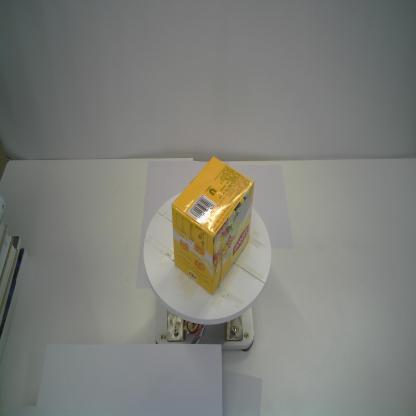Instant Drink: (171, 156, 254, 297)
